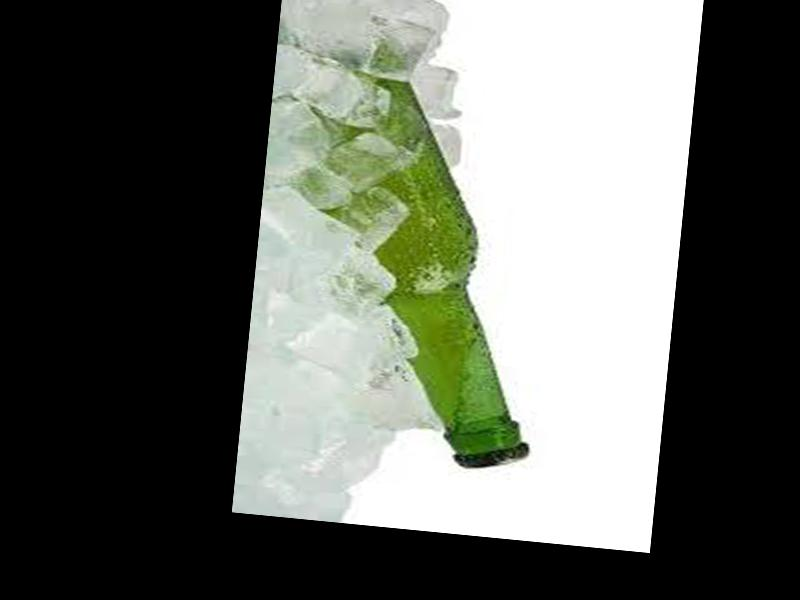Beer: (318, 47, 563, 477)
